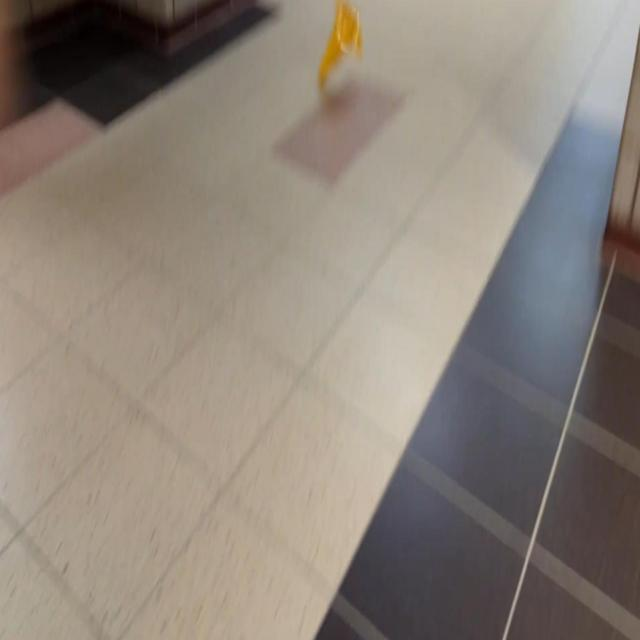frc_cone: (318, 2, 363, 86)
